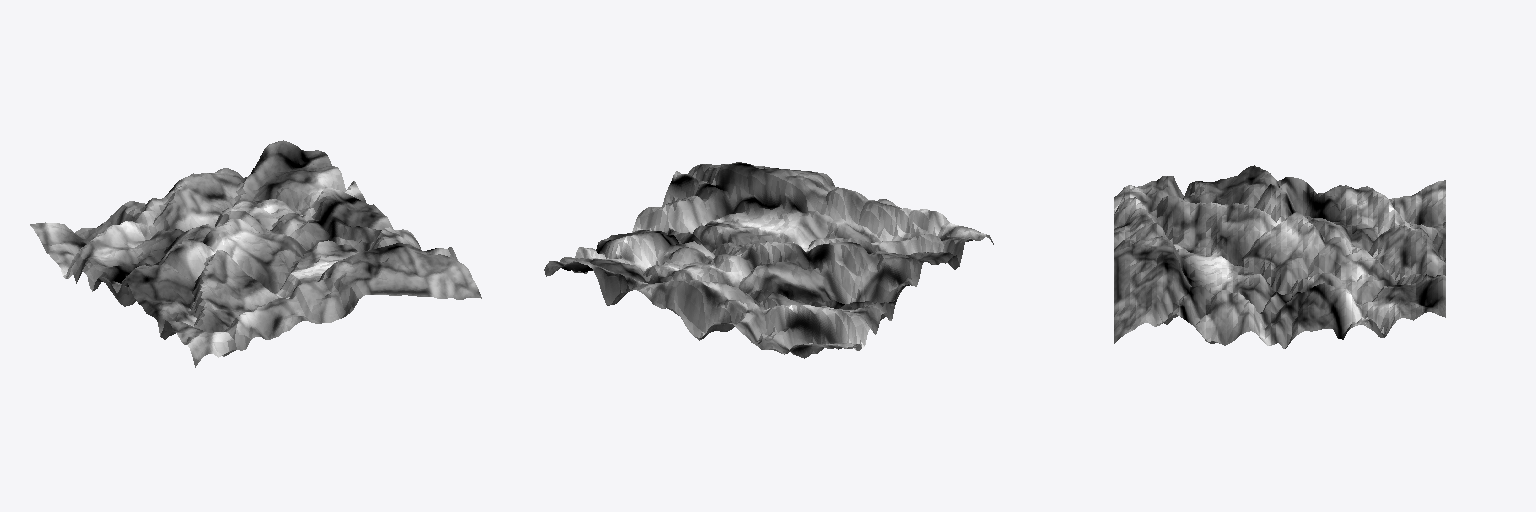
3 views of the same model, side by side, from view 1: azimuth 30°, elevation 25°; view 2: azimuth 150°, elevation 25°; view 3: azimuth 270°, elevation 25° (orthographic).
Parts seen in each view (by area): view 1: terrain_Plane.001; view 2: terrain_Plane.001; view 3: terrain_Plane.001.
Boxes of the visible parts, <box> form: terrain_Plane.001: <box>30,140,481,367</box>; terrain_Plane.001: <box>544,162,993,358</box>; terrain_Plane.001: <box>1114,165,1445,348</box>.
Size of the model in its own units: 1 by 0.1992 by 1.
Materials: 1 (1 with a texture image).